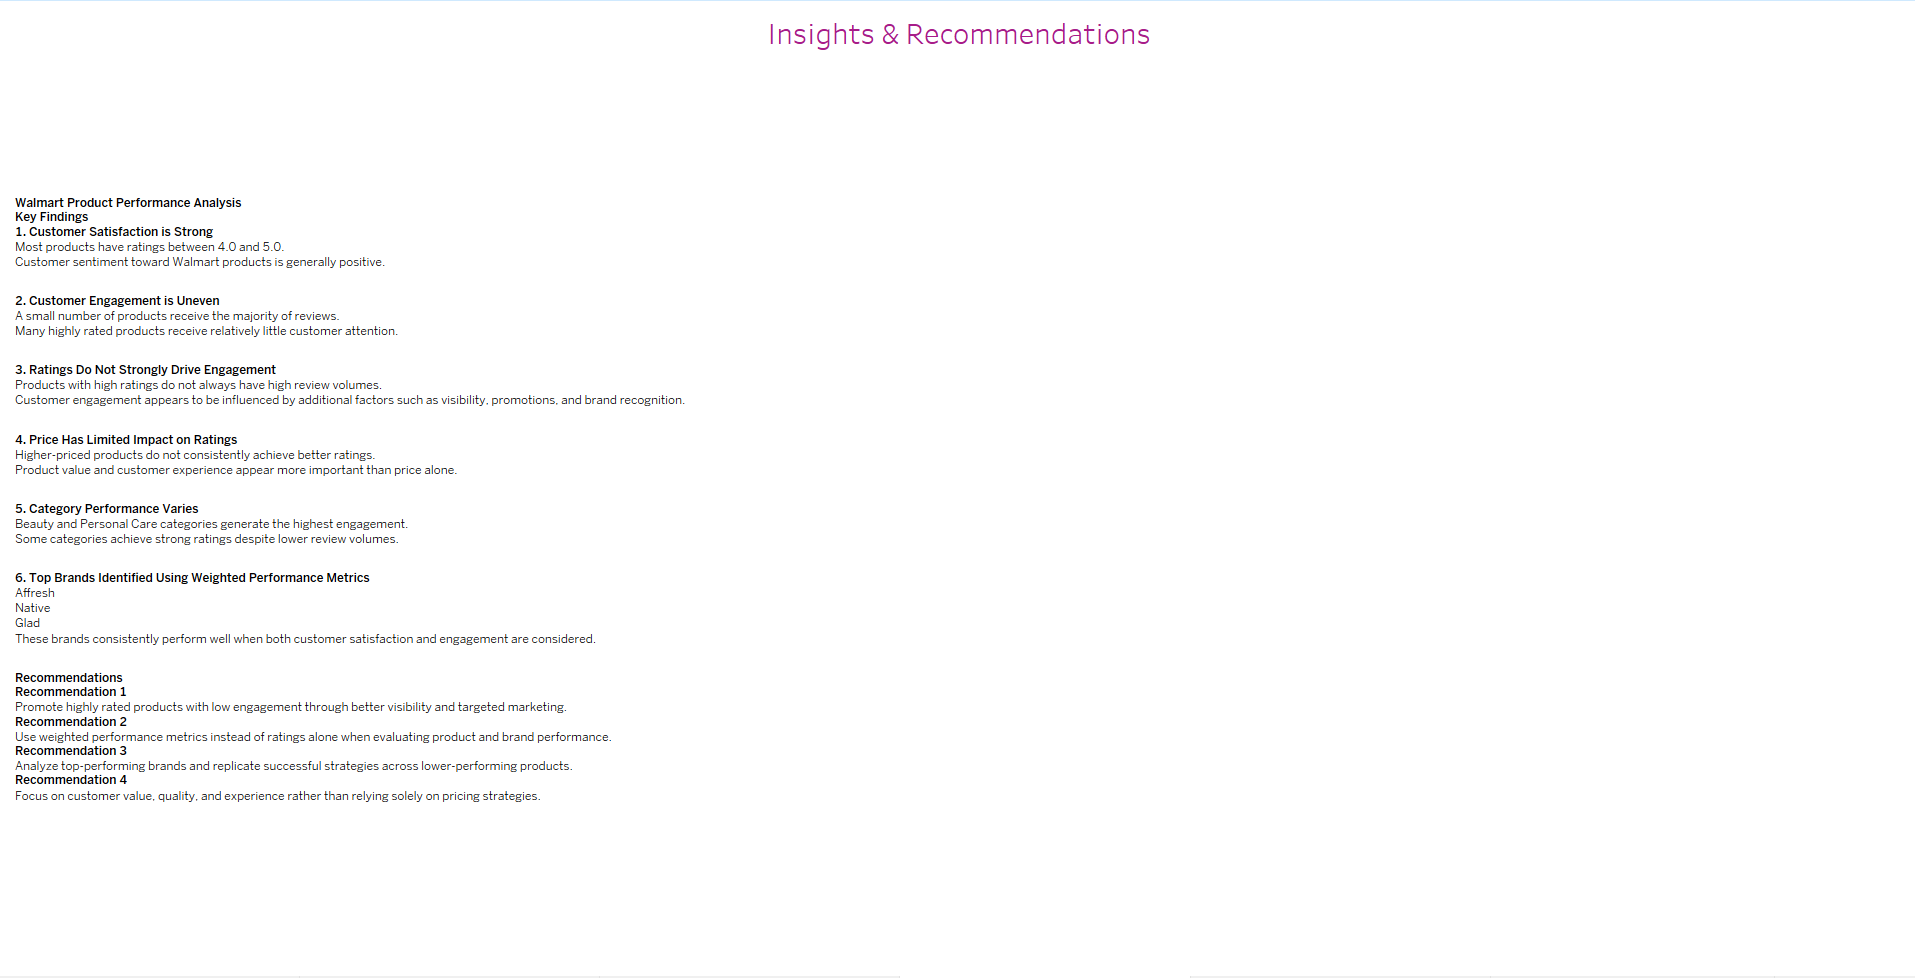

What the dashboard file says about the page in this screenshot:
{"tool":"tableau","page":{"name":"Insights & Recommendations","canvas":[1000,1000],"units":"permille","ordinal":1},"visuals":[{"type":"text","box":[5,10.7,990,978.6]}]}

Visuals, with their boxes on the dashboard's canvas, which has no fixed pixel size, in thousandths of its width and height (x1, y1, x2, y2). These are canvas units, not pixel positions in the 1915x978 screenshot, which may show the page scaled, cropped or inside an application window:
text: Rect(5, 11, 995, 989)
